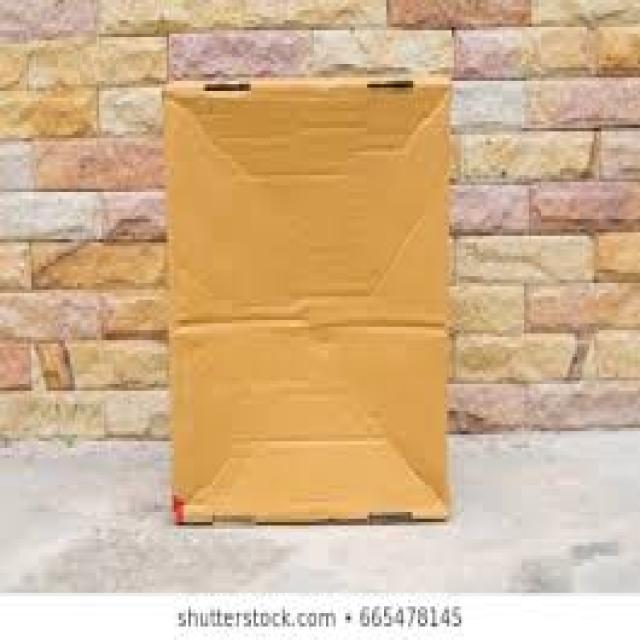Cardboard: (164, 76, 452, 527)
